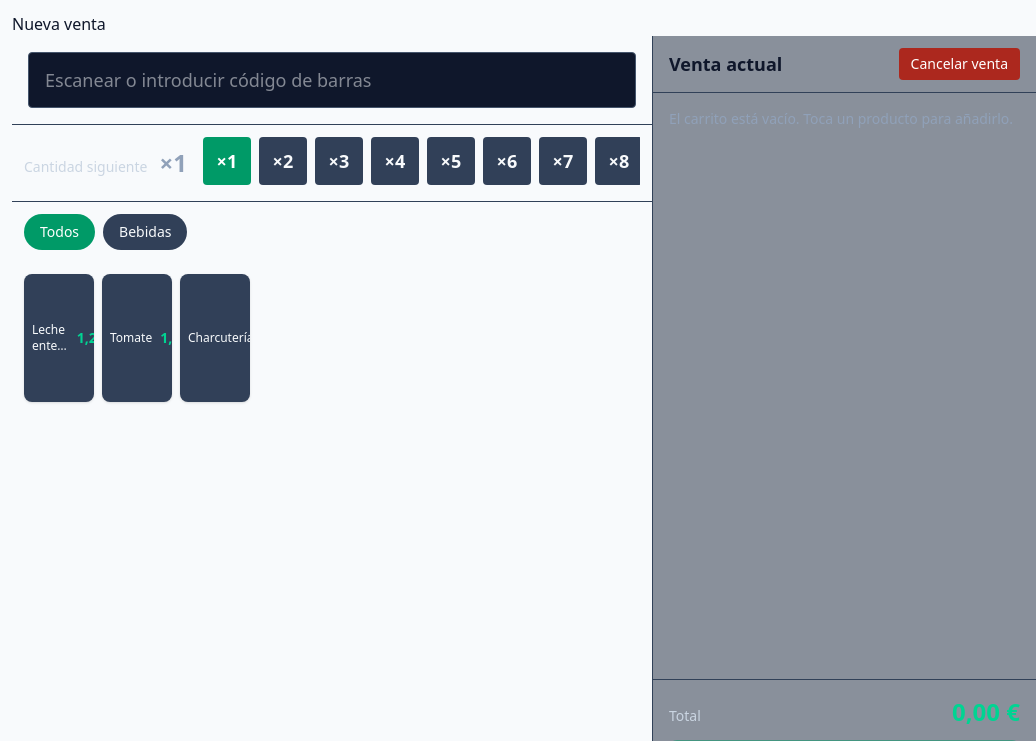
Test: PosHomePage › opens a new draft sale when the till has none open, then lets the cashier tap a product onto it
Expected: the text "El carrito está vacío. Toca un producto para añadirlo." is shown, x1=669 y1=109 x2=1013 y2=128
Click the button "Leche entera 1L 1,20 €" at [59, 338], box x1=24 y1=274 x2=94 y2=402
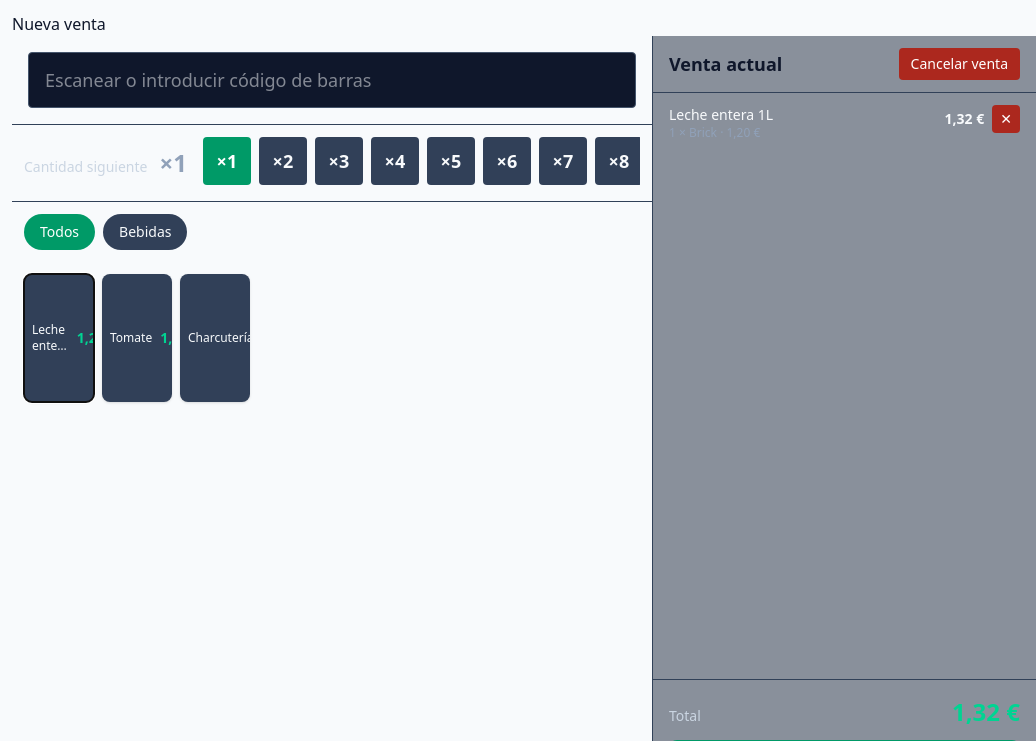
Expected: the text "Leche entera 1L" is shown 2 times, x1=32 y1=322 x2=69 y2=354; x1=669 y1=105 x2=773 y2=124
Expected: the text "Leche entera 1L" below "Venta actual" is shown, x1=669 y1=105 x2=773 y2=124
Expected: the text "1,32 €" in the row of "Brick" is shown, x1=945 y1=109 x2=984 y2=128
